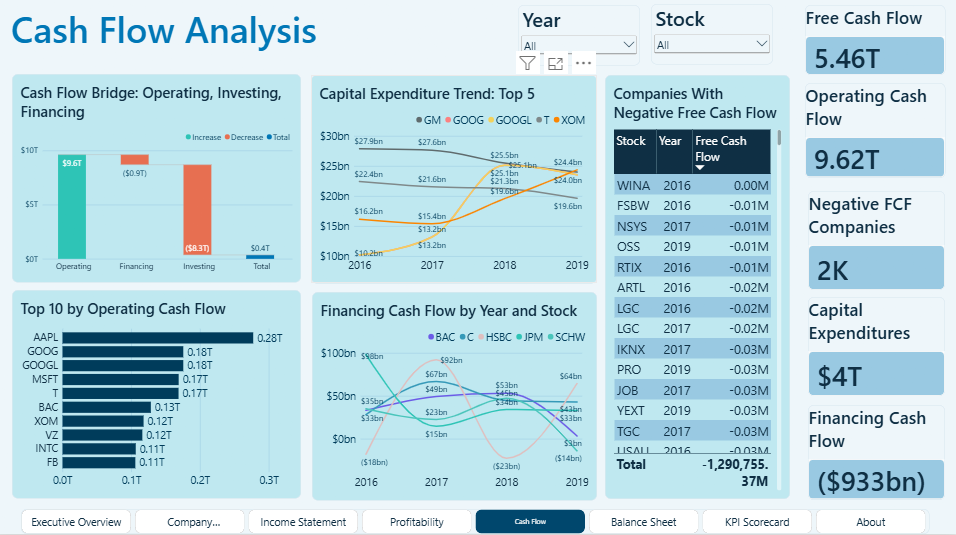

What the dashboard file says about the page in this screenshot:
{"tool":"powerbi","page":{"name":"Cash Flow","canvas":[1920,1080],"ordinal":4},"visuals":[{"type":"textbox","box":[31,19.4,644.5,110.3],"z":0},{"type":"slicer","fields":{"Values":["Dim_Date.Year"]},"box":[1043.6,22.3,244.5,121.2],"z":1000},{"type":"slicer","fields":{"Values":["Dim_Company.stock"]},"box":[1310.7,20.2,244.5,121.2],"z":2000},{"type":"cardVisual","title":"Operating Cash Flow","fields":{"Data":["_Measures.Operating Cash Flow"]},"box":[1617.9,178.6,281,189.5],"z":3000},{"type":"cardVisual","title":"Free Cash   Flow","fields":{"Data":["_Measures.Free Cash Flow"]},"box":[1617.9,21.3,281,140.5],"z":4000},{"type":"cardVisual","title":"Negative FCF Companies","fields":{"Data":["_Measures.Negative FCF Companies"]},"box":[1624.3,393.3,274.3,198.5],"z":5000},{"type":"cardVisual","title":"Financing Cash Flow","fields":{"Data":["_Measures.Financing Cash Flow"]},"box":[1623.9,822.6,274.3,189.5],"z":6000},{"type":"cardVisual","title":"Capital Expenditures","fields":{"Data":["_Measures.Capital Expenditures"]},"box":[1624.3,605.9,274.3,198.5],"z":7000},{"type":"waterfallChart","title":"Cash Flow Bridge: Operating, Investing, Financing","fields":{"Category":["CF Categories.Category"],"Y":["_Measures.CF Value"]},"box":[31.9,159.4,578.3,416.7],"z":8000},{"type":"clusteredBarChart","title":"Top 10 by Operating Cash Flow","fields":{"Category":["Dim_Company.Stock"],"Y":["_Measures.Operating Cash Flow"]},"box":[31.9,591,578.3,416.7],"z":9000},{"type":"lineChart","title":"Capital Expenditure Trend: Top 5","fields":{"Category":["Dim_Date.Year"],"Series":["Dim_Company.Stock"],"Y":["_Measures.Capital Expenditures"]},"box":[629.3,161.6,571.9,416.7],"z":10000},{"type":"tableEx","title":"Companies With Negative Free Cash Flow","fields":{"Values":["Dim_Company.Stock","Dim_Date.Year","_Measures.Free Cash Flow"]},"box":[1218.2,161.6,369.9,848.3],"z":11000},{"type":"lineChart","fields":{"Category":["Dim_Date.Year"],"Series":["Dim_Company.Stock"],"Y":["_Measures.Financing Cash Flow"]},"box":[631.4,595.3,569.8,416.7],"z":12000},{"type":"pageNavigator","box":[50.3,1029.7,1817.4,50.3],"z":12001}]}

Visuals, with their boxes in screenshot pixels (x1, y1, x2, y2), scaled from the page's 1920x1080 canvas onto the 956x535 screenshot:
textbox: [15, 10, 336, 64]
slicer - Dim_Date.Year: [520, 11, 641, 71]
slicer - Dim_Company.stock: [653, 10, 774, 70]
"Operating Cash Flow" cardVisual: [806, 88, 945, 182]
"Free Cash   Flow" cardVisual: [806, 11, 945, 80]
"Negative FCF Companies" cardVisual: [809, 195, 945, 293]
"Financing Cash Flow" cardVisual: [809, 407, 945, 501]
"Capital Expenditures" cardVisual: [809, 300, 945, 398]
"Cash Flow Bridge: Operating, Investing, Financing" waterfallChart: [16, 79, 304, 285]
"Top 10 by Operating Cash Flow" clusteredBarChart: [16, 293, 304, 499]
"Capital Expenditure Trend: Top 5" lineChart: [313, 80, 598, 286]
"Companies With Negative Free Cash Flow" tableEx: [607, 80, 791, 500]
lineChart - Dim_Date.Year x Dim_Company.Stock: [314, 295, 598, 501]
pageNavigator: [25, 510, 930, 534]
